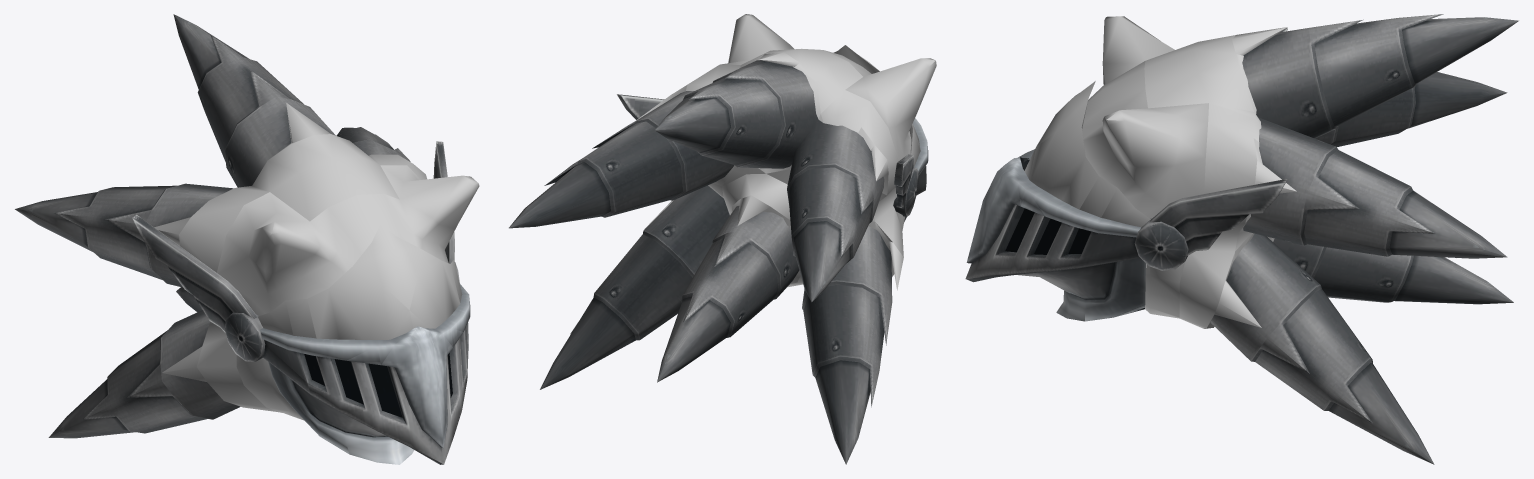
Rendered from helm.dae.
3 renders of one model, left to right at view 1: azimuth 30°, elevation 25°; view 2: azimuth 150°, elevation 25°; view 3: azimuth 270°, elevation 25°, orthographic. The views are drawn at different scales.
Visible parts, largest first — view 1: V1_U2_P20_N157; view 2: V1_U2_P20_N157; view 3: V1_U2_P20_N157.
Boxes of the visible parts, x1,y1,x2,y2 form: V1_U2_P20_N157: (15, 14, 479, 464); V1_U2_P20_N157: (509, 14, 936, 464); V1_U2_P20_N157: (965, 14, 1518, 464).
Size of the model in its own units: 5.65 by 7.96 by 5.83.
